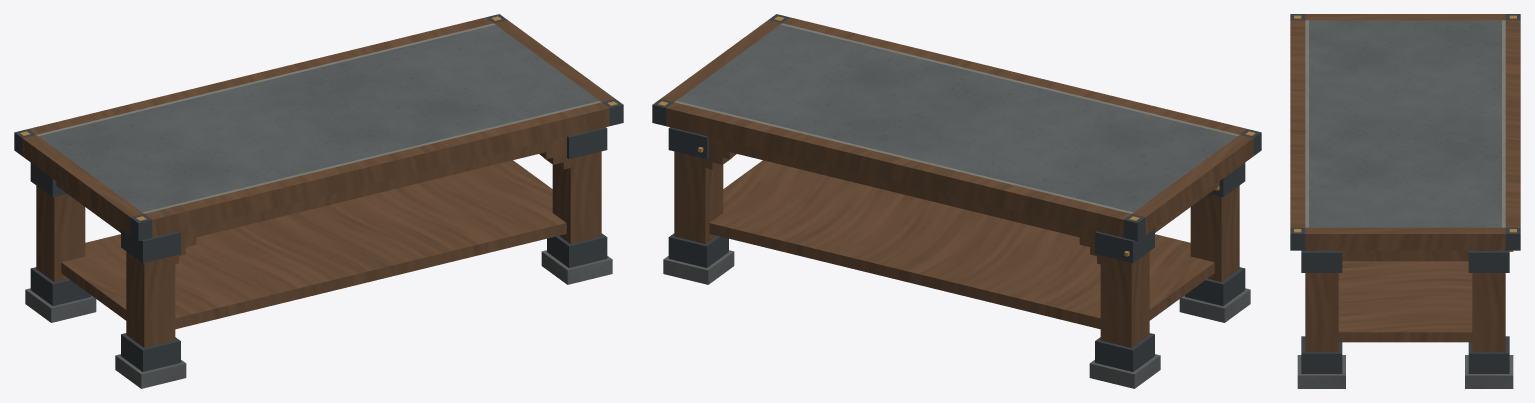
The picture shows the model from 3 angles, left to right: view 1: azimuth 30°, elevation 25°; view 2: azimuth 150°, elevation 25°; view 3: azimuth 270°, elevation 25°; orthographic projection. The views are drawn at different scales.
Visible parts, largest first — view 1: 茶几台面, 茶几桌架; view 2: 茶几台面, 茶几桌架; view 3: 茶几台面, 茶几桌架.
Boxes of the visible parts, x1,y1,x2,y2 form: 茶几台面: [14, 14, 623, 241]; 茶几桌架: [25, 127, 612, 388]; 茶几台面: [652, 14, 1261, 241]; 茶几桌架: [663, 127, 1250, 388]; 茶几台面: [1290, 14, 1520, 250]; 茶几桌架: [1297, 250, 1513, 388].
Bounding box in the file's own units: 1.4 × 0.47 × 0.62.
6 materials, 6 textured.
